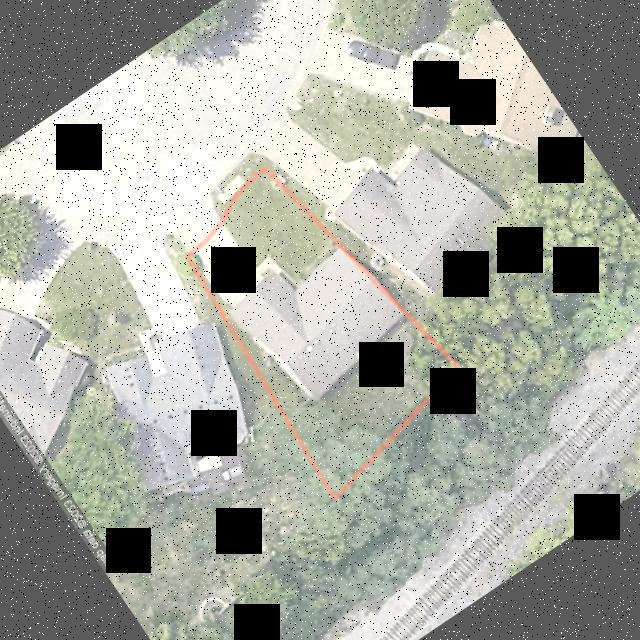Driveway: (198, 226, 298, 307), (173, 195, 219, 251)
Extra Driveway: (173, 196, 219, 251)
Extra Lawn: (219, 156, 264, 190), (210, 189, 232, 218)
Extra Sidewalk: (217, 175, 245, 204)
House: (232, 250, 401, 399)
